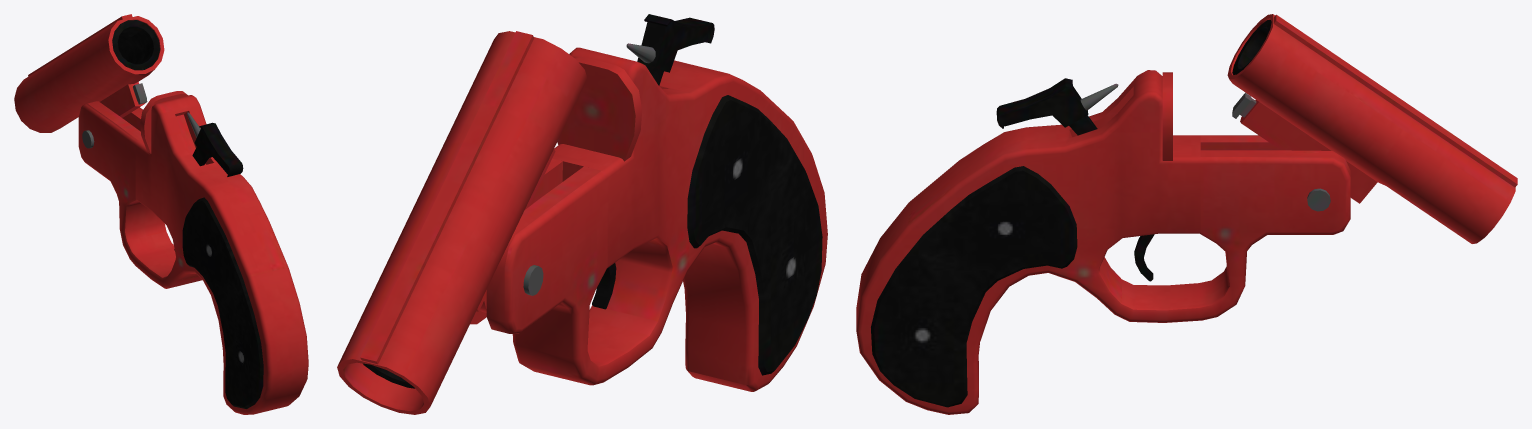
The model's file is bunker47-prop-flaregun.glb.
3 views of the same model, side by side, from view 1: azimuth 30°, elevation 25°; view 2: azimuth 150°, elevation 25°; view 3: azimuth 270°, elevation 25° (orthographic). The views are drawn at different scales.
Parts seen in each view (by area): view 1: Body, Barrel, Hammer; view 2: Body, Barrel, Hammer, Trigger; view 3: Body, Barrel, Hammer.
Part boxes in pixels (bbox=[...]): Body: bbox=[78, 91, 308, 414]; Barrel: bbox=[14, 14, 164, 148]; Hammer: bbox=[187, 112, 243, 176]; Body: bbox=[470, 47, 827, 391]; Barrel: bbox=[337, 31, 587, 414]; Hammer: bbox=[626, 14, 714, 85]; Trigger: bbox=[592, 263, 616, 309]; Body: bbox=[856, 70, 1350, 414]; Barrel: bbox=[1227, 14, 1517, 243]; Hammer: bbox=[996, 78, 1118, 135].
Size of the model in its own units: 3.27 by 17.68 by 27.43.
1 material, 1 textured.
